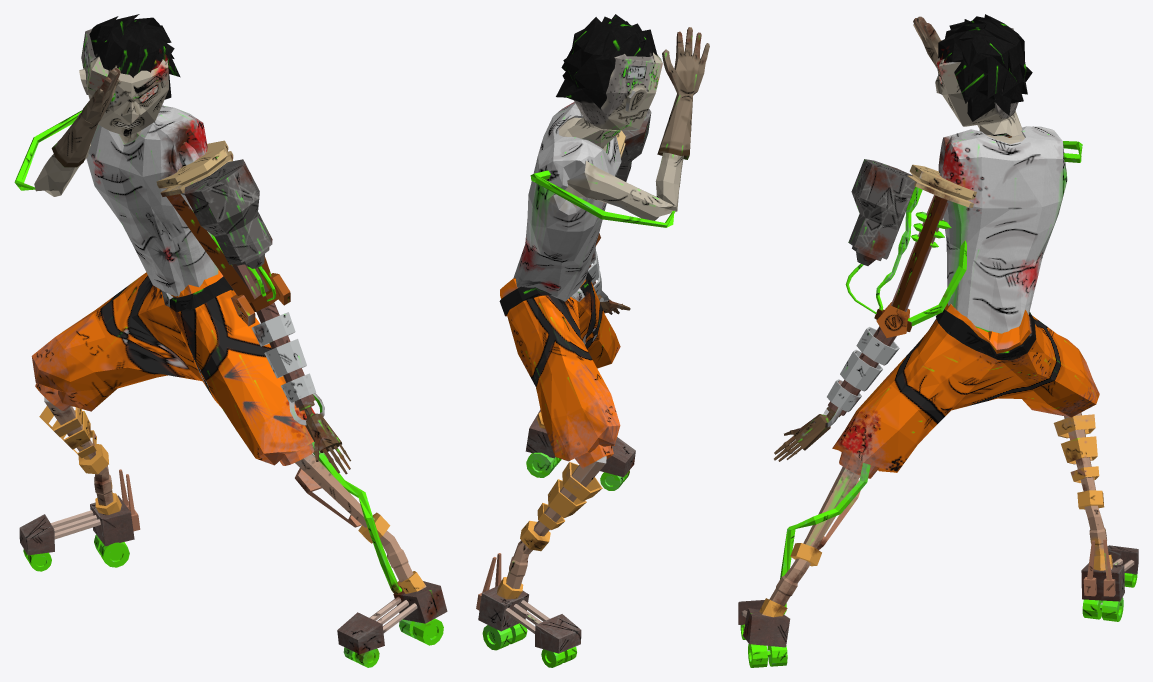
Rendered from CyborgFINALAnimation_000057.obj.
The picture shows the model from 3 angles, left to right: view 1: azimuth 30°, elevation 25°; view 2: azimuth 150°, elevation 25°; view 3: azimuth 270°, elevation 25°; orthographic projection. The views are drawn at different scales.
Visible parts, largest first — view 1: CyborgMesh_Cube.002; view 2: CyborgMesh_Cube.002; view 3: CyborgMesh_Cube.002.
Boxes of the visible parts, x1,y1,x2,y2 form: CyborgMesh_Cube.002: (14, 14, 447, 667); CyborgMesh_Cube.002: (476, 14, 709, 667); CyborgMesh_Cube.002: (738, 14, 1138, 667).
Size of the model in its own units: 4.24 by 8.63 by 5.44.
